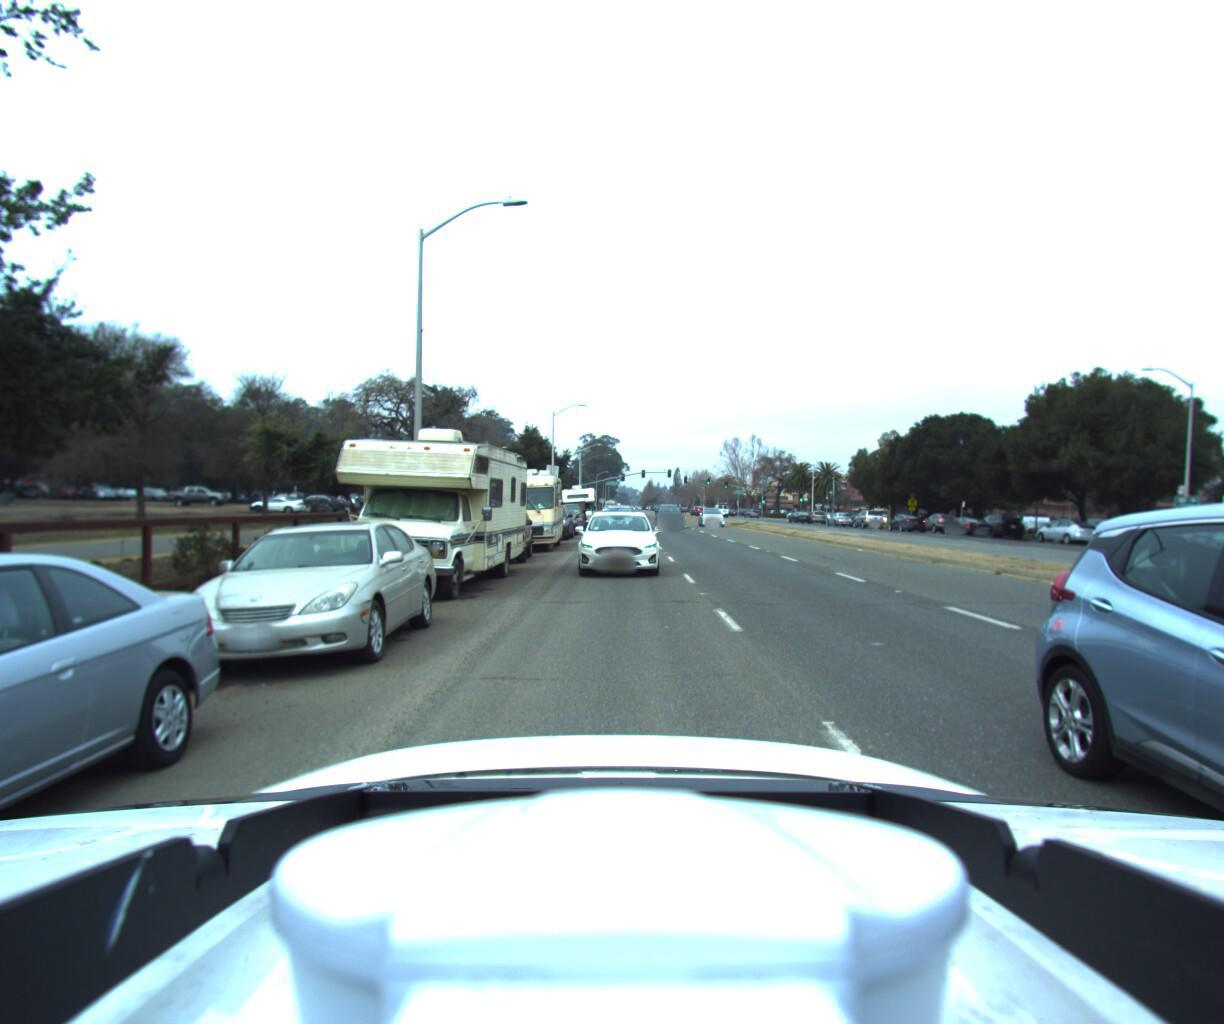car: (0, 533, 254, 1024), (145, 513, 445, 692), (1137, 491, 1224, 1024), (563, 508, 655, 578), (455, 502, 533, 565), (1119, 519, 1217, 554), (1025, 515, 1101, 544), (1189, 508, 1224, 573), (522, 502, 575, 542), (544, 496, 586, 532), (964, 513, 1022, 538), (938, 514, 987, 536), (915, 511, 959, 533), (885, 510, 926, 529), (850, 506, 885, 527), (656, 504, 686, 528), (698, 505, 727, 526), (827, 511, 855, 526)
other_vehicle: (313, 413, 531, 598), (477, 465, 567, 553), (555, 485, 597, 528)
